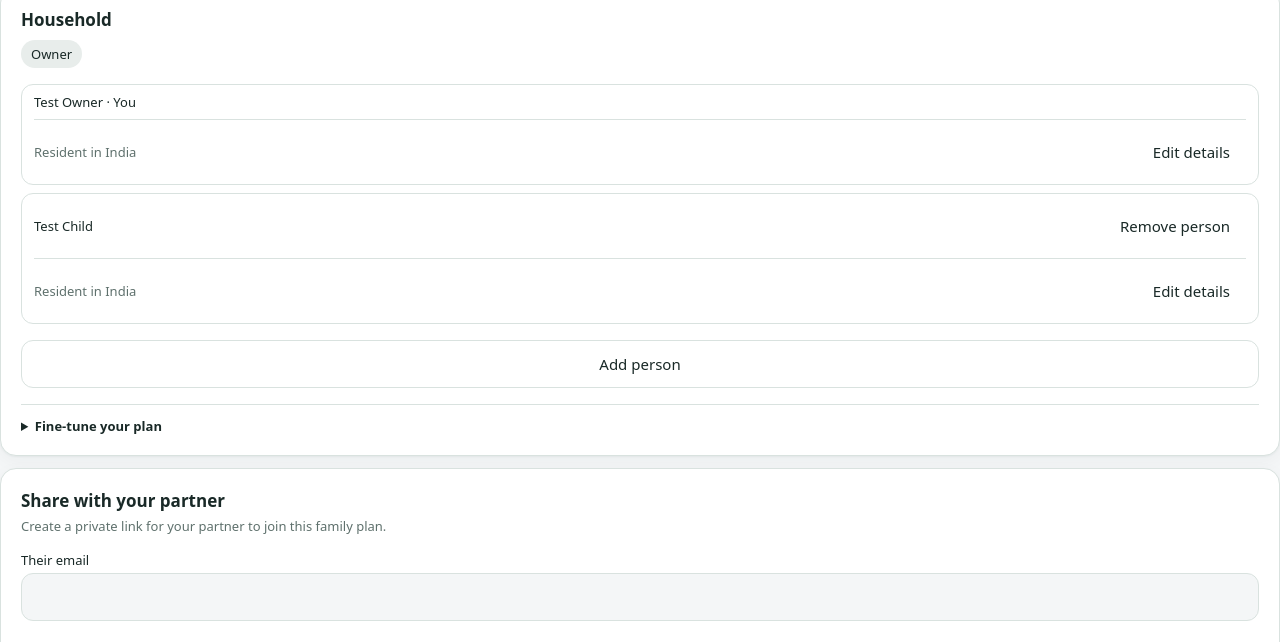
Test: Settings › explains an invite conflict for member_is_owner
This screenshot has width=1280, height=642.
Check: the heading "Share with your partner" is shown, box [21,489,225,512]
In the field labelled "Their email": point(640, 597) [21,573,1259,621], type "partner@example.test"
(page scrolled)
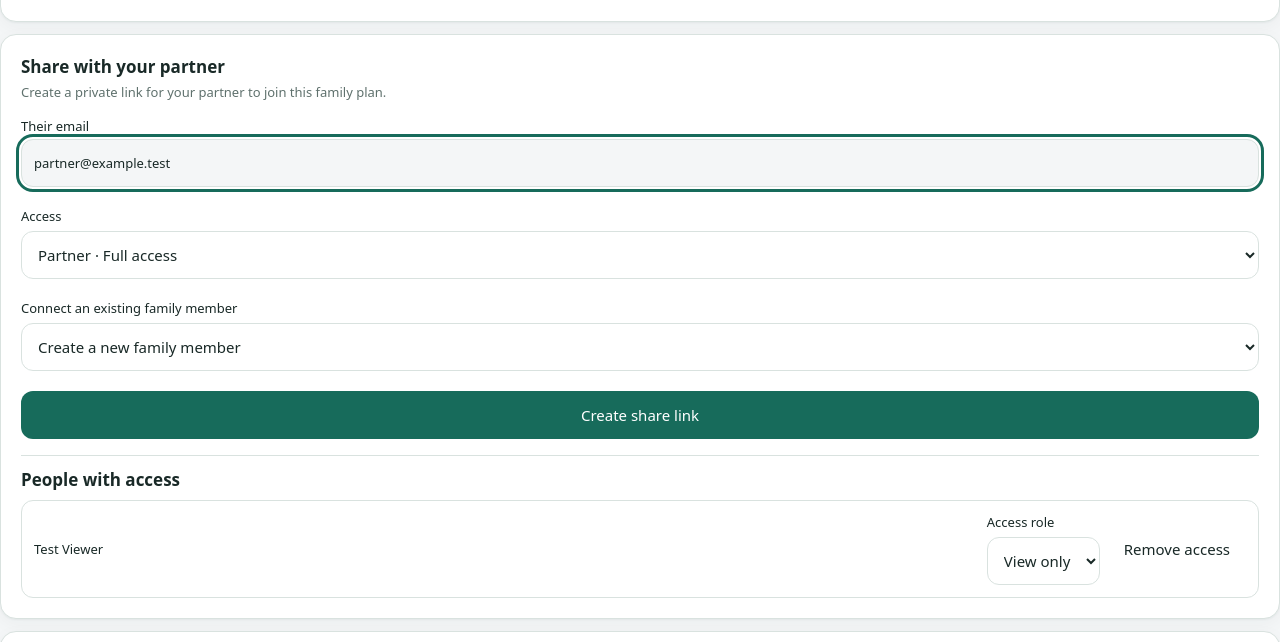
Select "Test Owner" in the dropdown labelled "Connect an existing family member": point(640, 347) [21,323,1259,371]
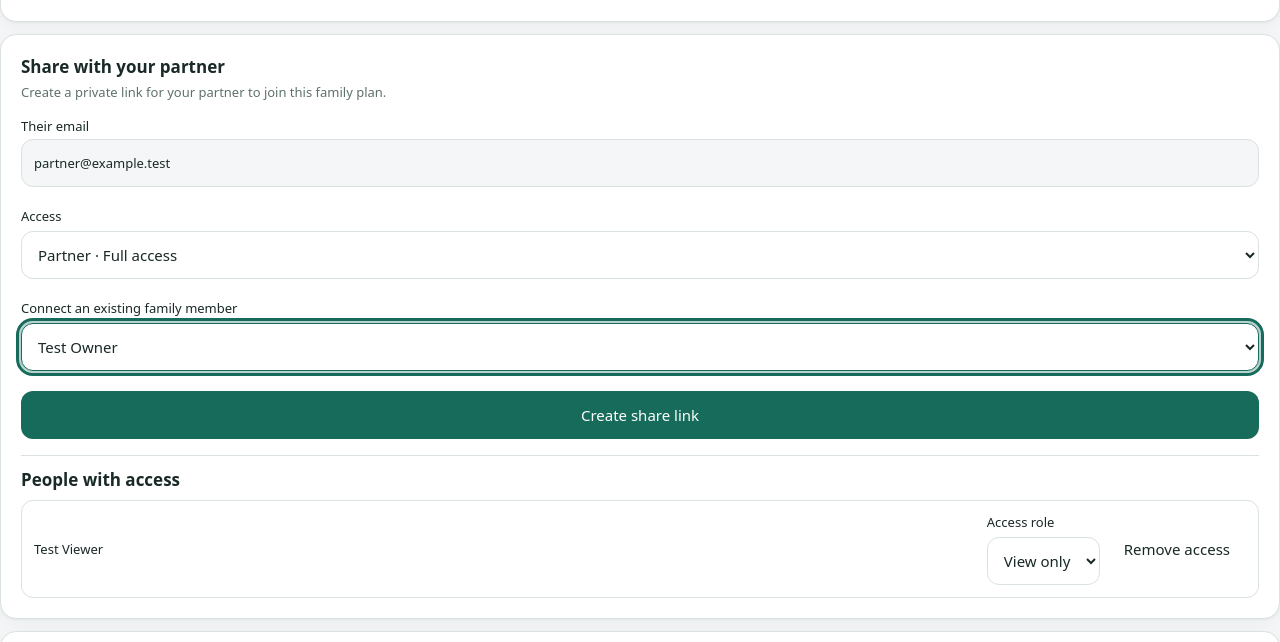
Click the button "Create share link": point(640, 415) [21,391,1259,439]
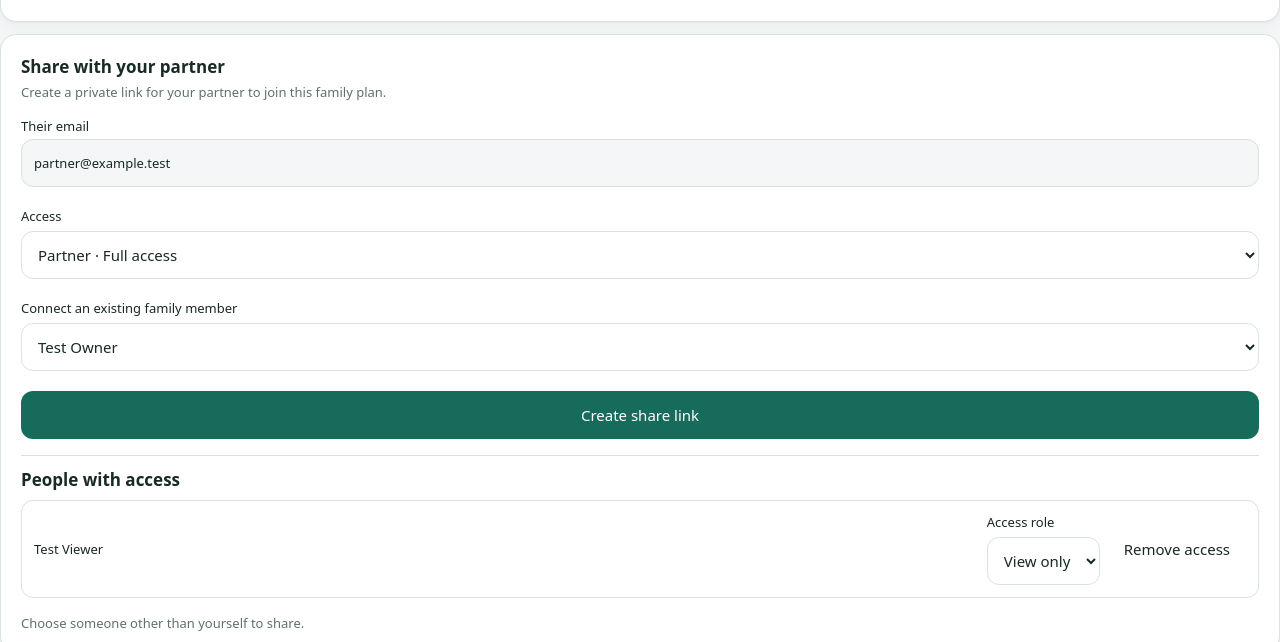
Check: the message reads "Choose someone other than yourself to share.", box [21,614,304,632]
